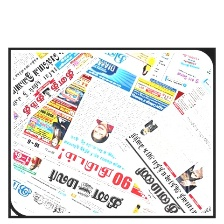news_paper: (10, 49, 213, 214), (109, 67, 214, 215), (7, 49, 101, 136)
